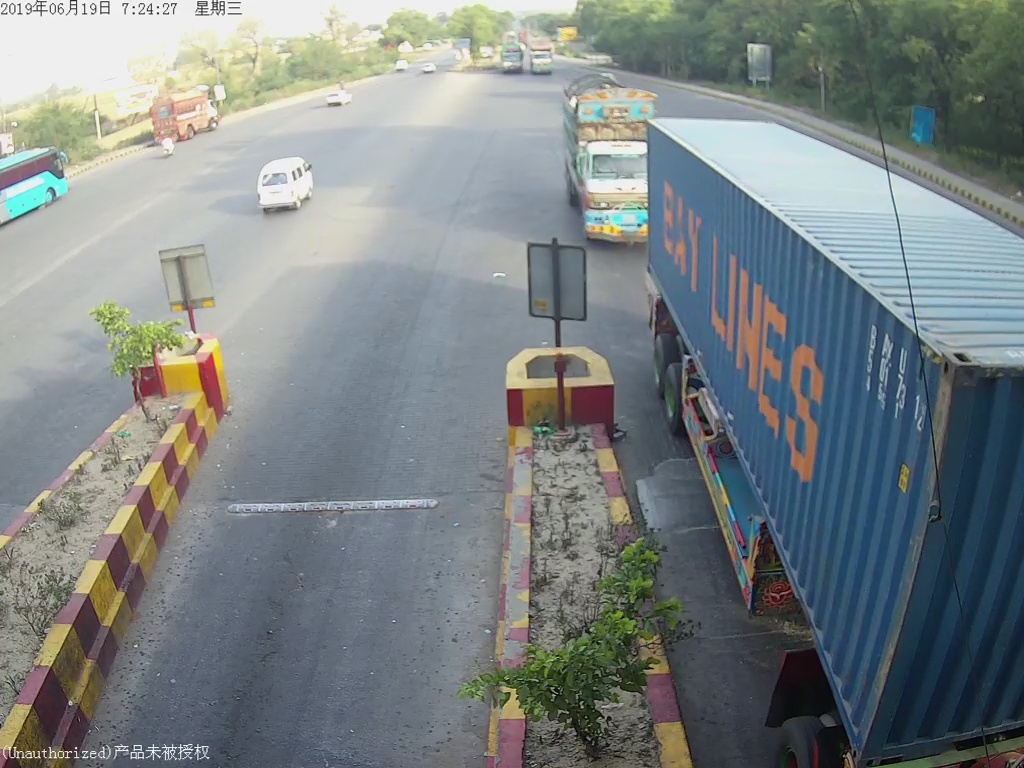Cat-4: (562, 95, 641, 245)
